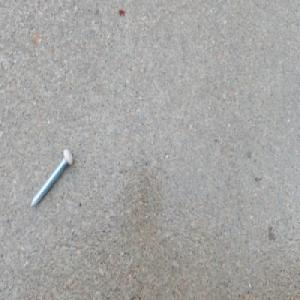Nail: (27, 147, 73, 212)
